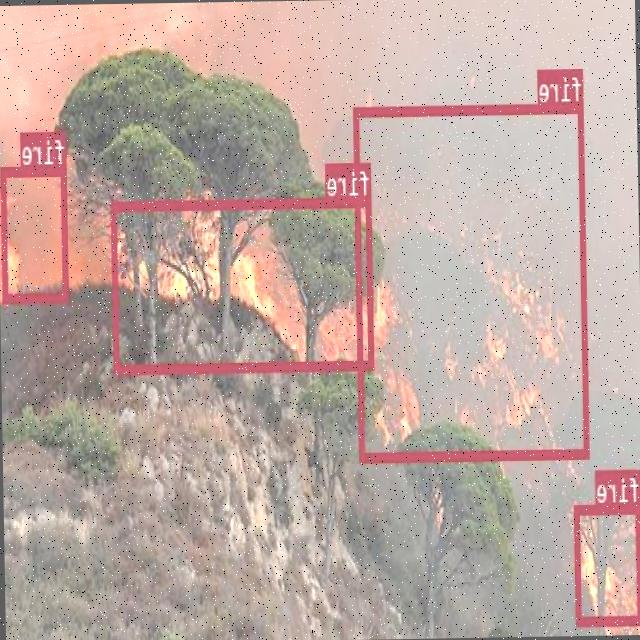fire: (354, 102, 590, 462), (112, 195, 375, 372), (2, 164, 69, 300), (575, 501, 640, 623)
